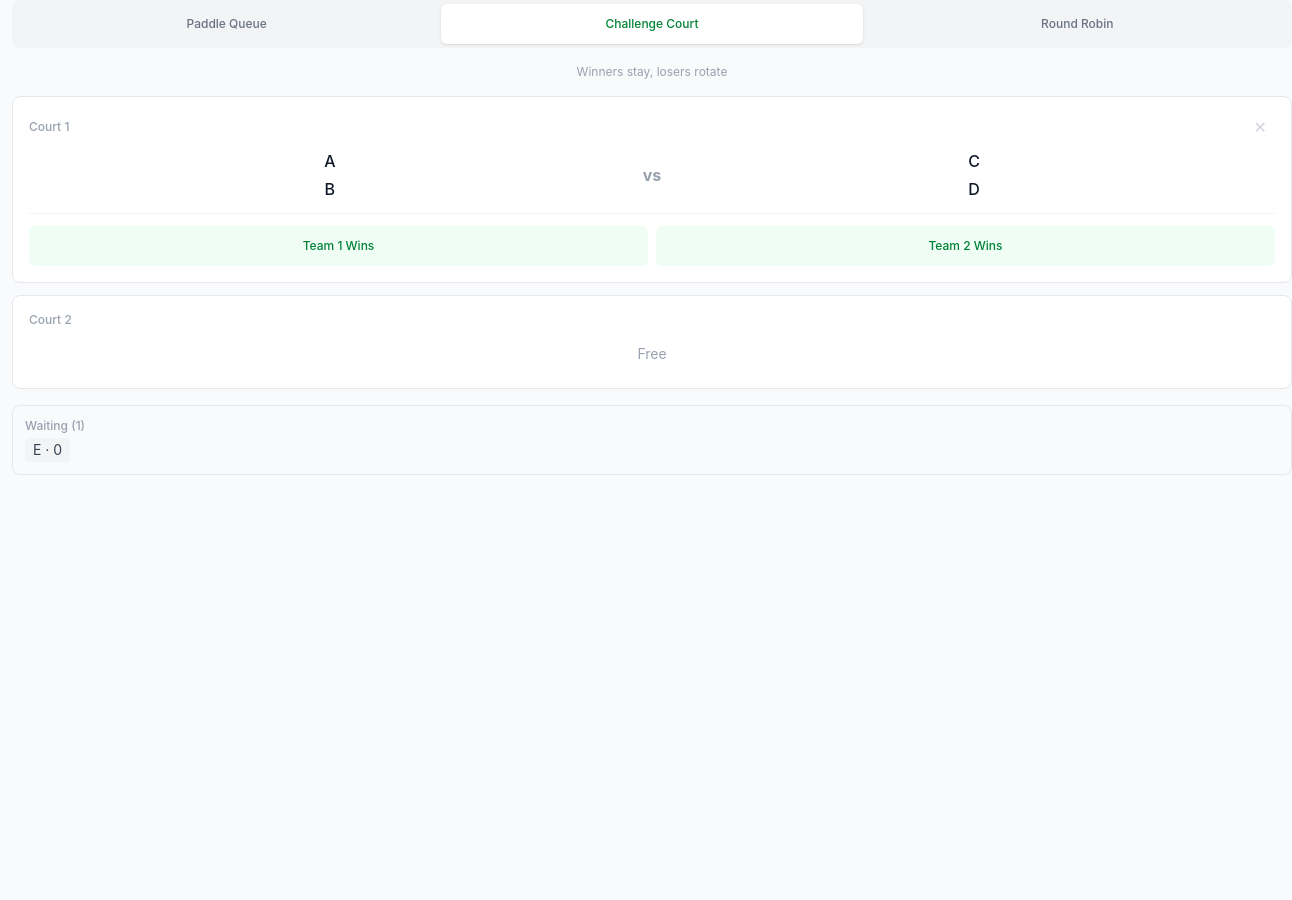
Test case: MatchupsTab courts › challenge court: win keeps winners on court with streak
Click the button "Team 1 Wins".
click(338, 246)  # box [29,226,648,266]
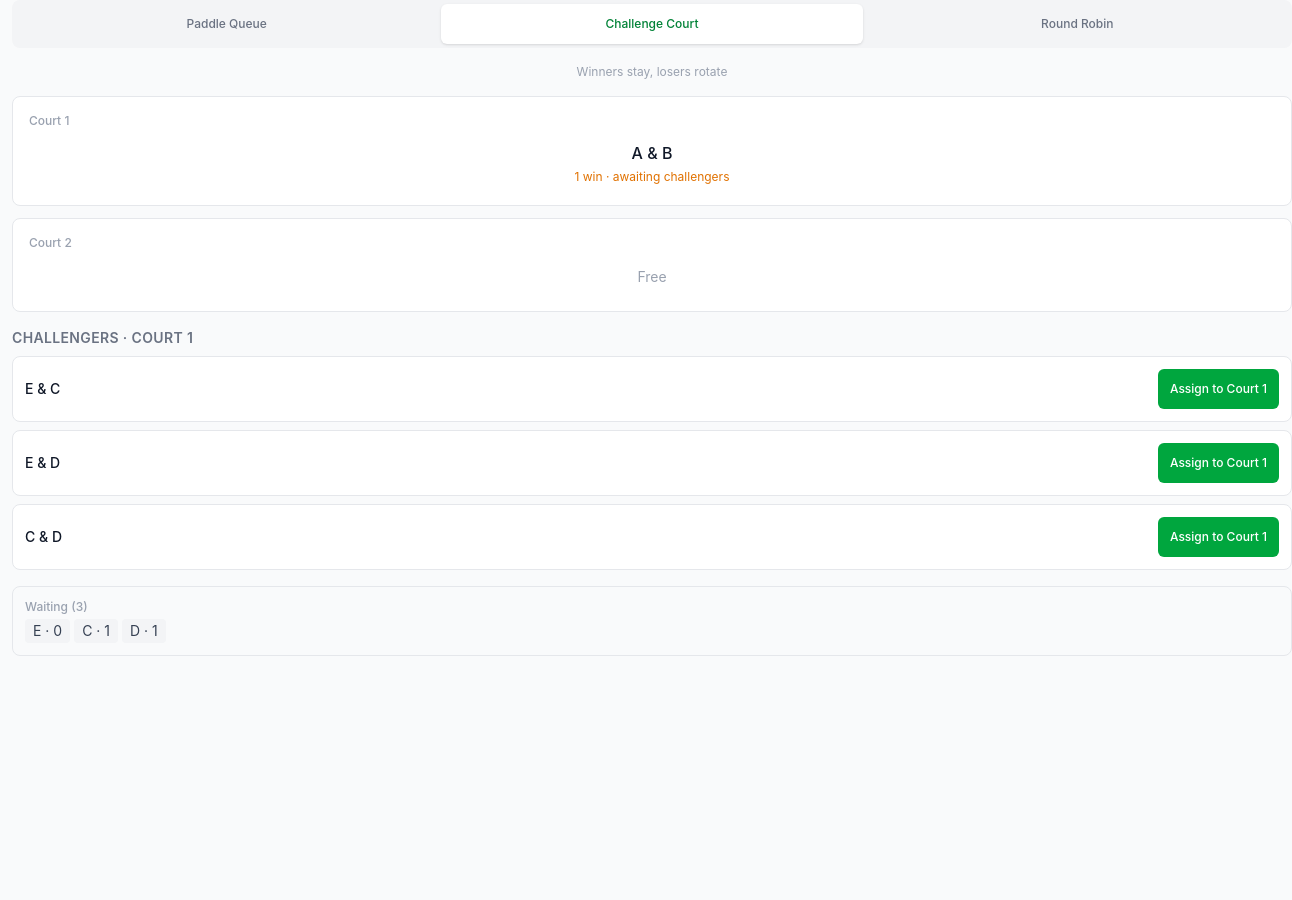
Expected: the text "A & B" is shown, [632,143,672,163]
Expected: the text "1 win · awaiting challengers" is shown, [574,169,729,184]
